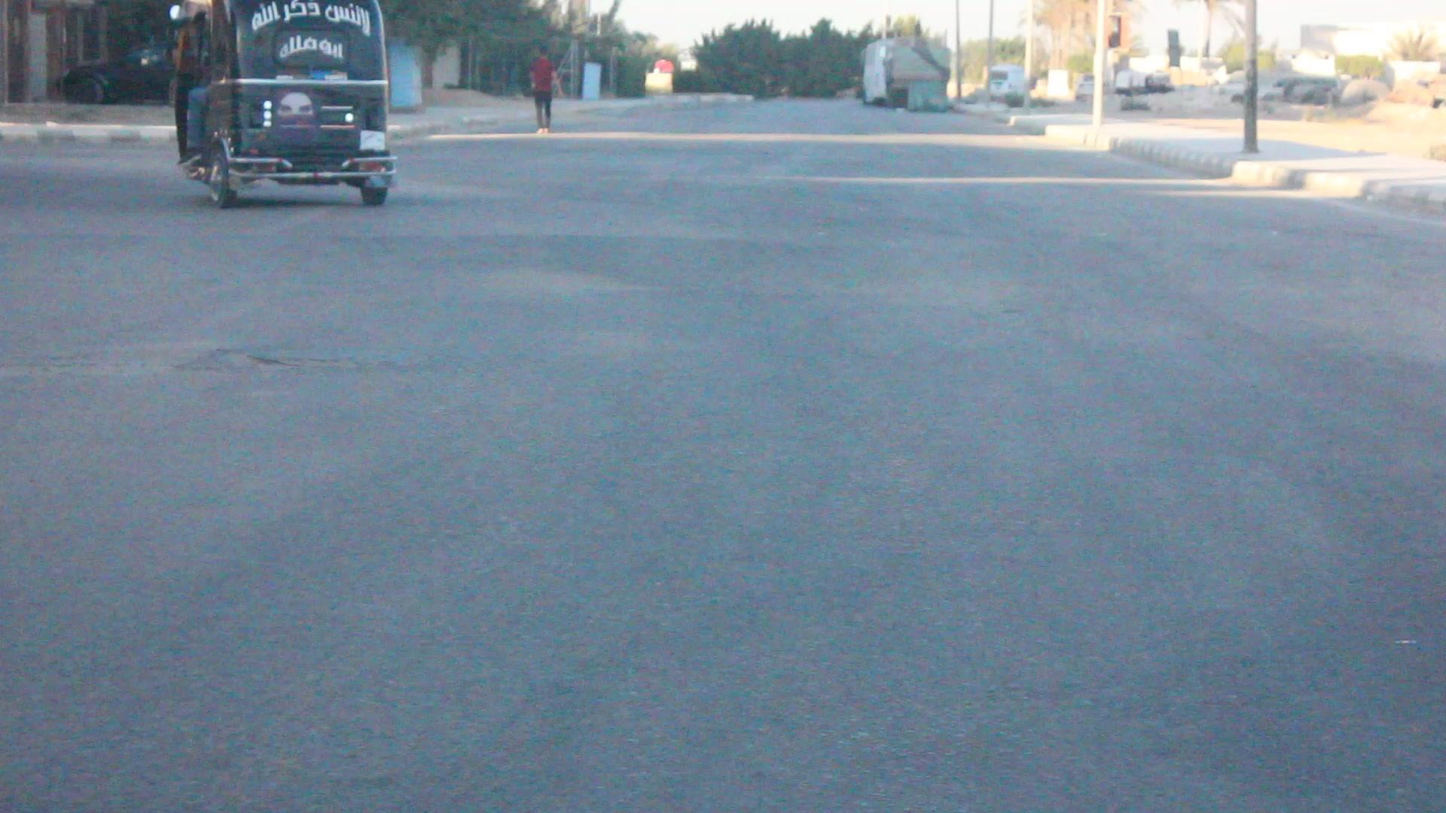Pothole: (70, 341, 352, 403)
